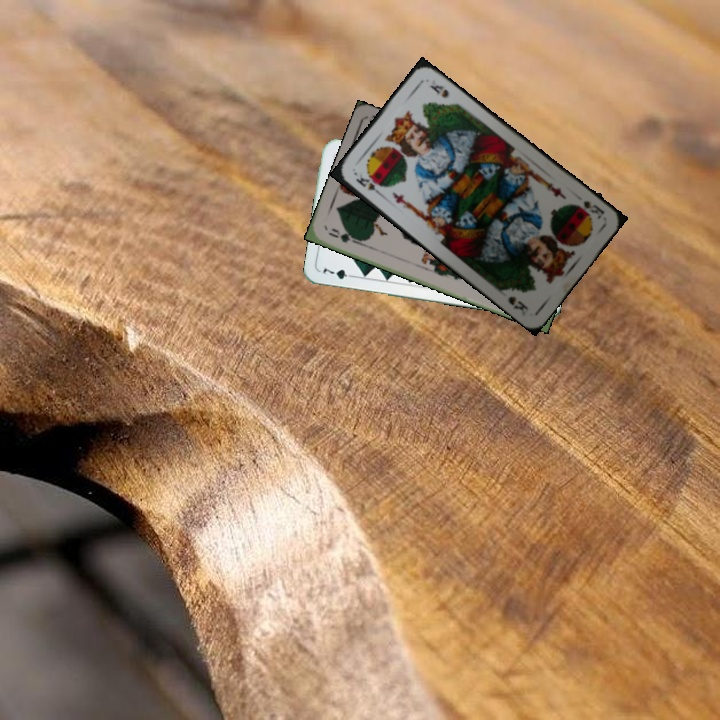G7: (319, 264, 358, 281)
GO: (324, 224, 363, 247)
SK: (352, 170, 385, 199), (573, 196, 607, 222)
